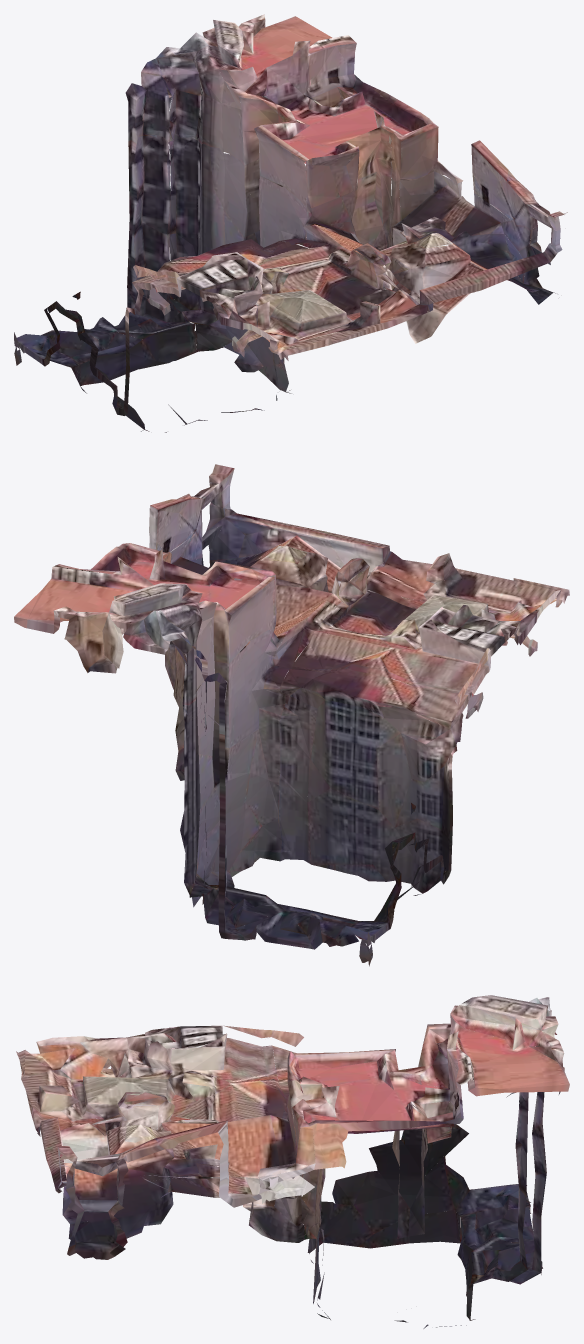
3 renders of one model, top to bottom at view 1: azimuth 30°, elevation 25°; view 2: azimuth 150°, elevation 25°; view 3: azimuth 270°, elevation 25°, orthographic. The views are drawn at different scales.
Visible parts, largest first — view 1: Mesh_0; view 2: Mesh_0; view 3: Mesh_0.
Part boxes in pixels (x1,y1,x2,y2): Mesh_0: (14, 14, 567, 432); Mesh_0: (14, 464, 569, 966); Mesh_0: (16, 995, 569, 1328).
Size of the model in its own units: 33.32 by 27.39 by 41.44.
2 materials, 2 textured.
